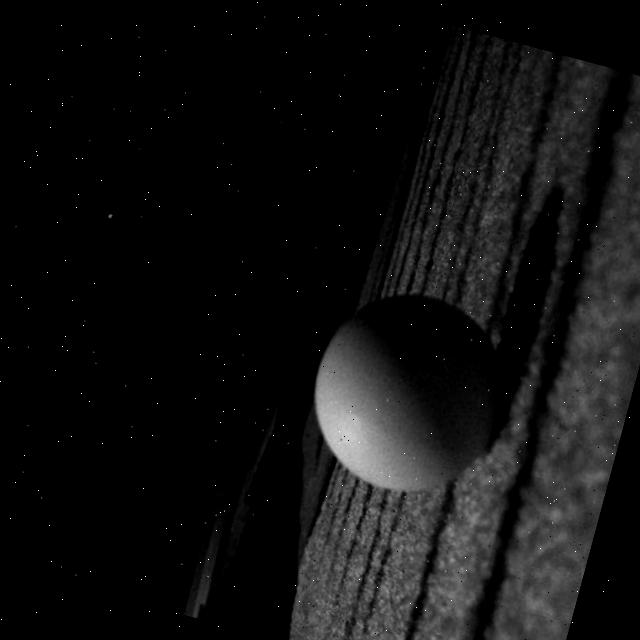ping-pong-ball: (290, 265, 530, 512)
